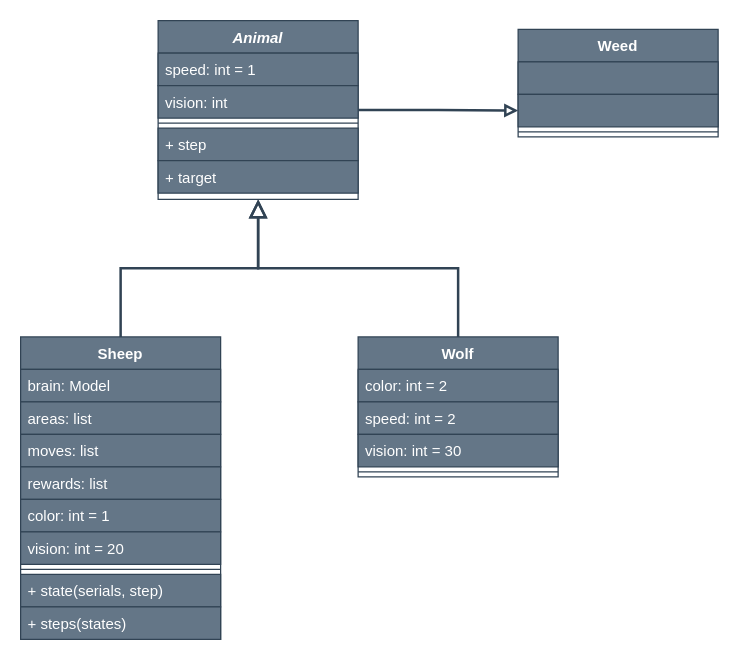
Some shapes in this 739 by 660 pixel diagram are drawn without their labels. The centre of each missing label's shape, as x and y in pixels:
"color: int = 3" belongs at point 617,110.
"name: str" belongs at point 617,77.
